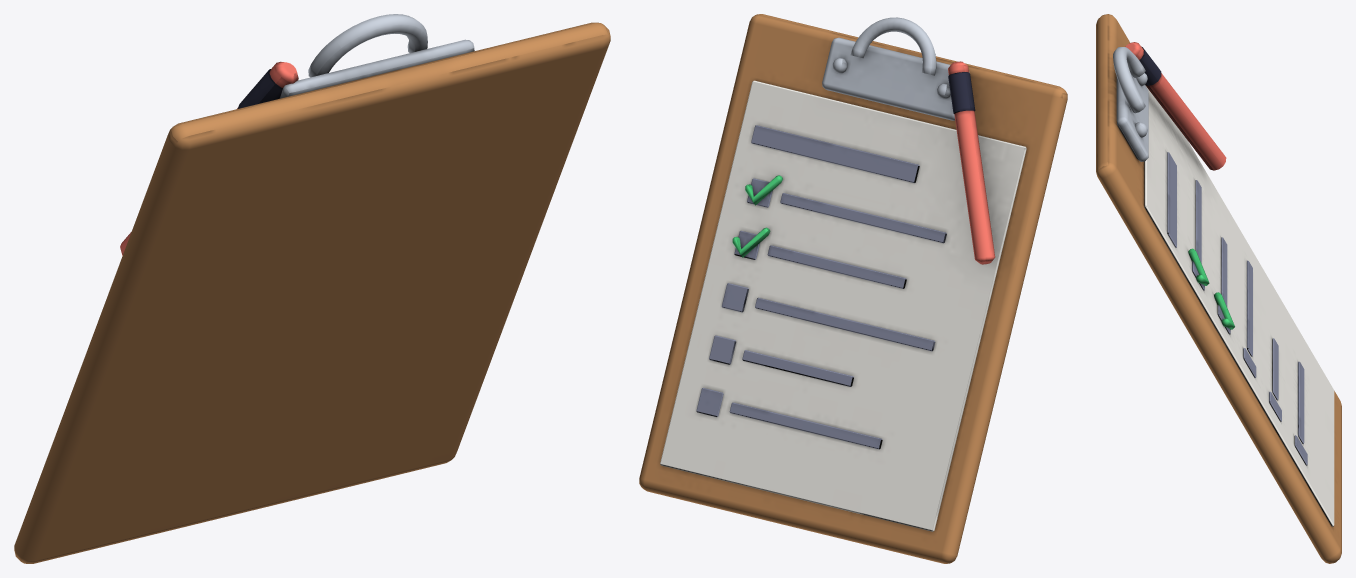
Rendered from held_clipboard.glb.
3 views of the same model, side by side, from view 1: azimuth 30°, elevation 25°; view 2: azimuth 150°, elevation 25°; view 3: azimuth 270°, elevation 25° (orthographic). The views are drawn at different scales.
Parts seen in each view (by area): view 1: held_clipboard; view 2: held_clipboard; view 3: held_clipboard.
Boxes of the visible parts, x1=… form: held_clipboard: x1=14, y1=14, x2=610, y2=563; held_clipboard: x1=639, y1=14, x2=1067, y2=563; held_clipboard: x1=1096, y1=14, x2=1341, y2=563.
Size of the model in its own units: 0.23 by 0.3006 by 0.1531.
Materials: 7 (7 with a texture image).
